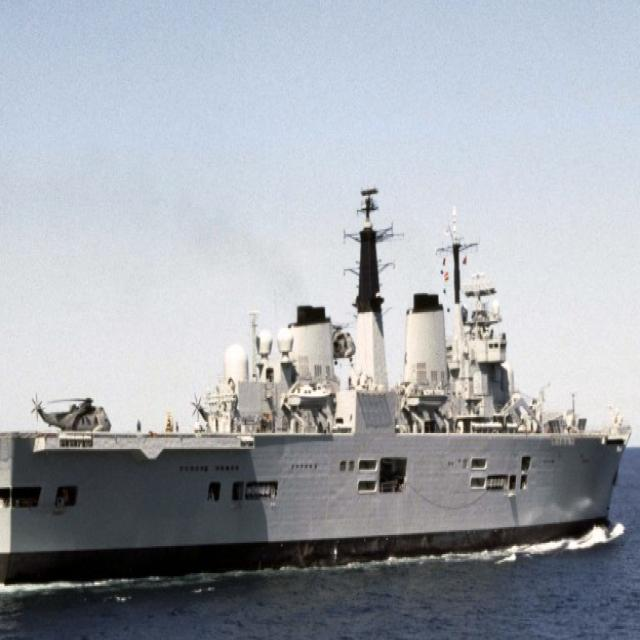Portanaves: (1, 172, 640, 594)
